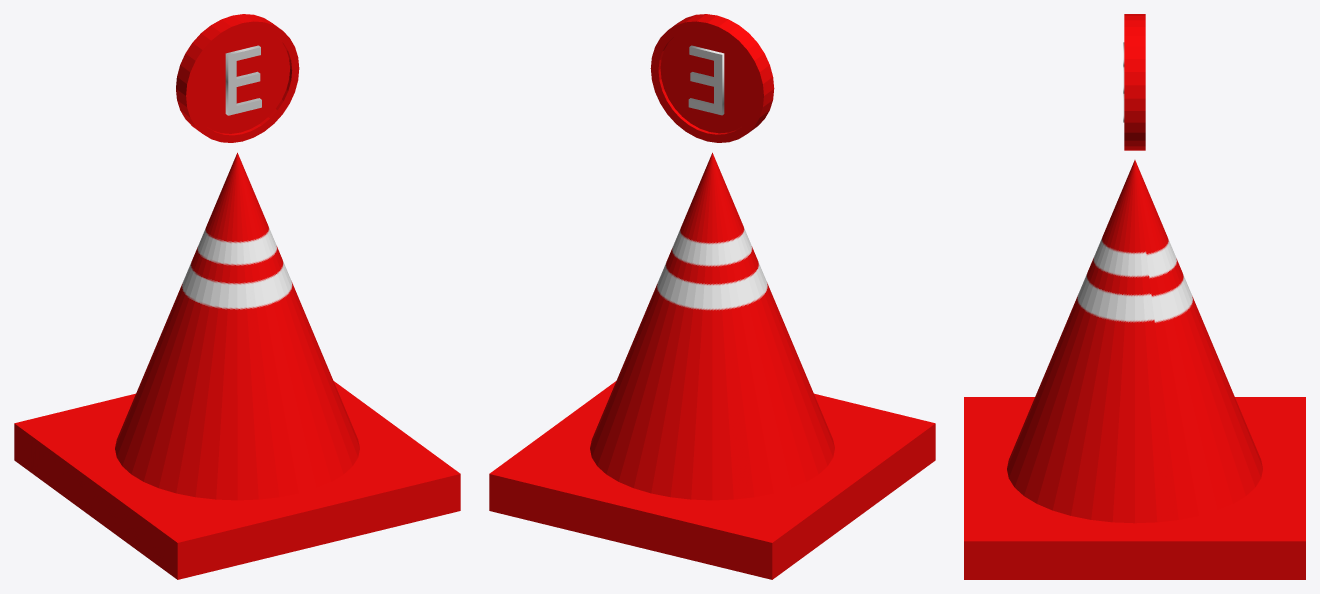
Rendered from cone_with_coin_E.dae.
The picture shows the model from 3 angles, left to right: view 1: azimuth 30°, elevation 25°; view 2: azimuth 150°, elevation 25°; view 3: azimuth 270°, elevation 25°; orthographic projection. The views are drawn at different scales.
Parts seen in each view (by area): view 1: Sankaku_Cone, Cylinder, B; view 2: Sankaku_Cone, Cylinder, B; view 3: Sankaku_Cone, Cylinder.
Boxes of the visible parts, left/top/right/bottom form: Sankaku_Cone: left=14, top=152, right=460, bottom=579; Cylinder: left=176, top=14, right=299, bottom=142; B: left=225, top=45, right=261, bottom=115; Sankaku_Cone: left=489, top=152, right=935, bottom=579; Cylinder: left=650, top=14, right=774, bottom=142; B: left=688, top=45, right=724, bottom=115; Sankaku_Cone: left=964, top=160, right=1305, bottom=579; Cylinder: left=1124, top=14, right=1145, bottom=150.
Size of the model in its own units: 0.4 by 0.4 by 0.6296.
Materials: 2 (2 with a texture image).
